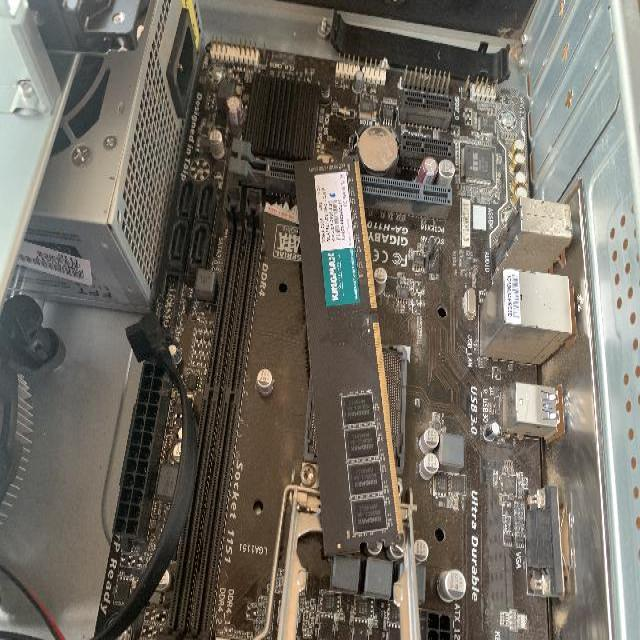Mainboard: (174, 37, 601, 640)
RAM: (290, 156, 408, 555)
